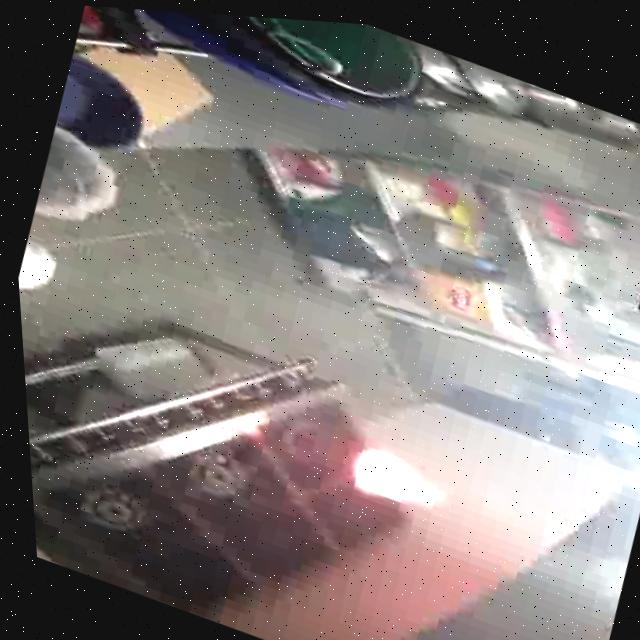Fire: (333, 432, 450, 518)
